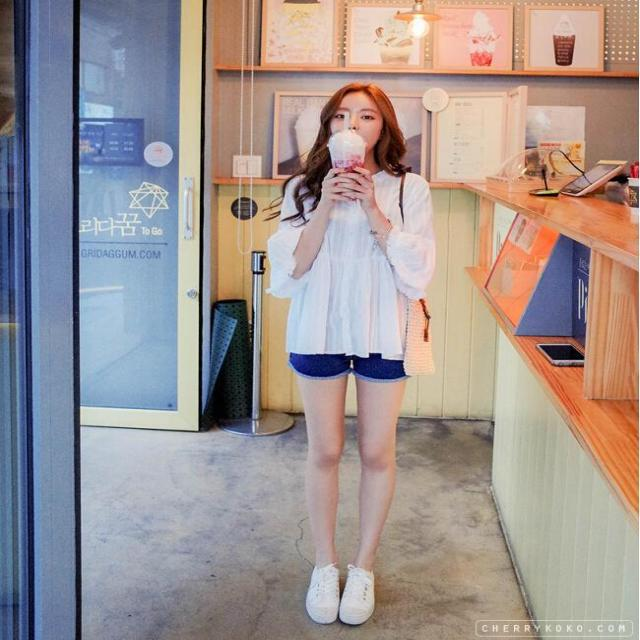long sleeve top: (271, 167, 432, 358)
shorts: (290, 318, 407, 376)
